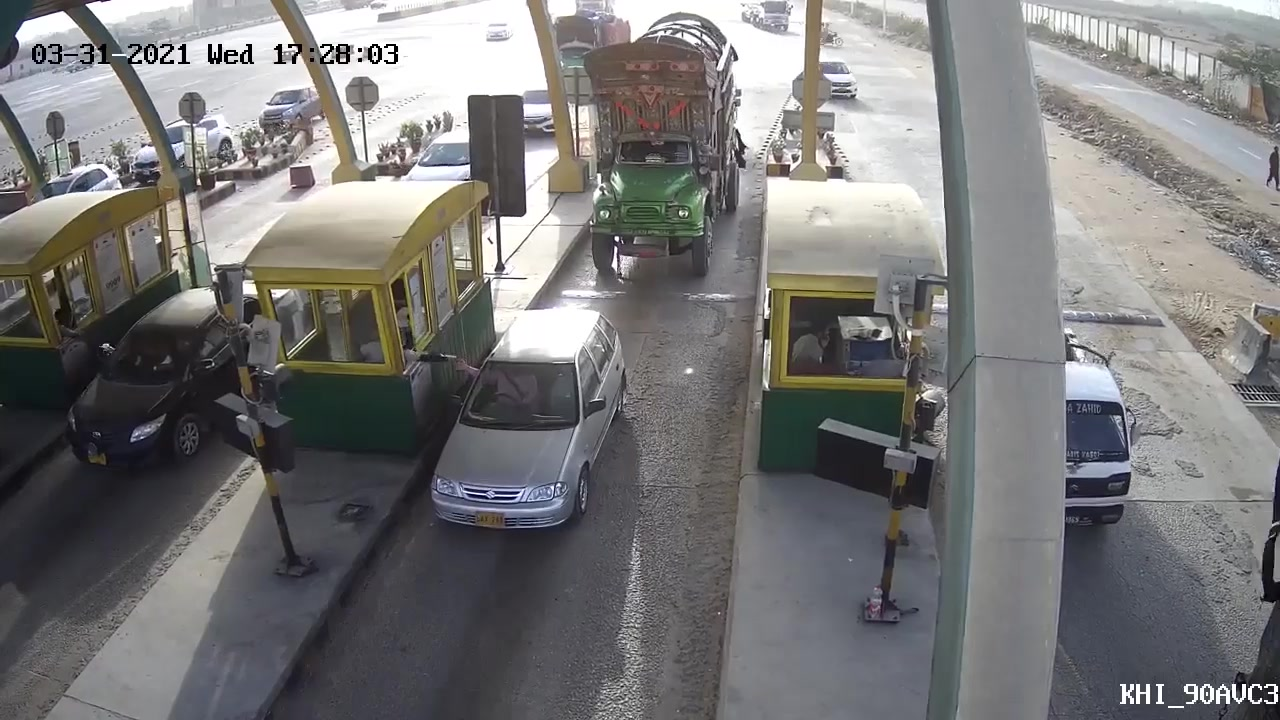F1: (409, 301, 648, 542)
F5: (574, 9, 753, 285)
